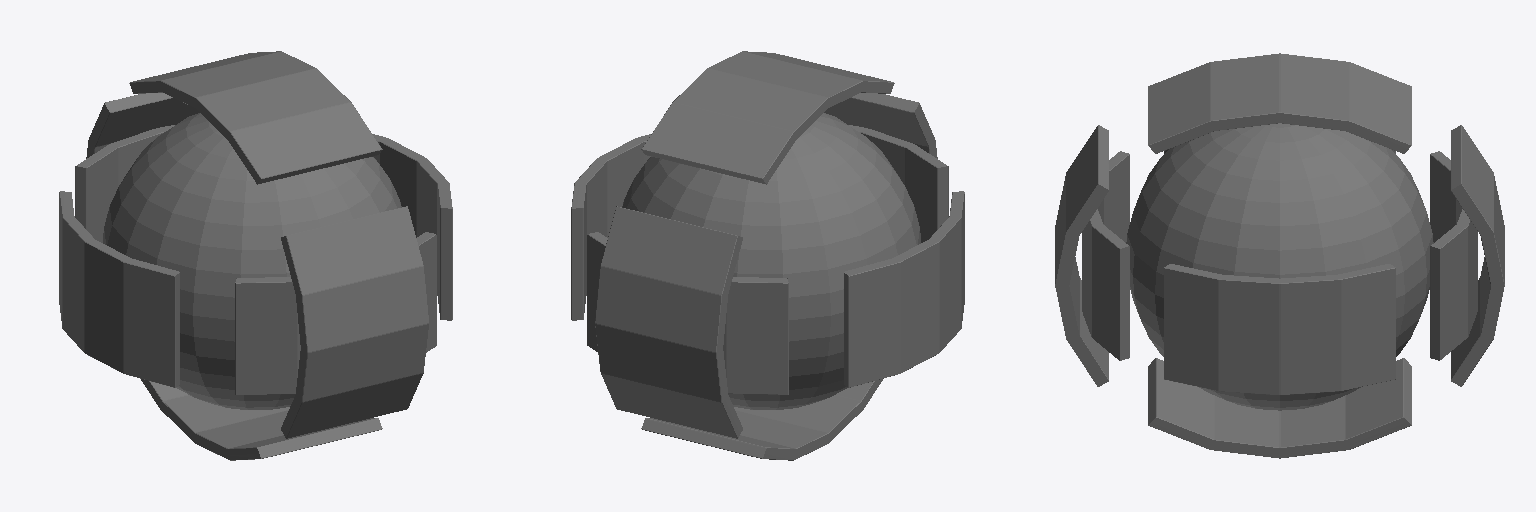
The model's file is shieldBall.obj.
The picture shows the model from 3 angles: view 1: azimuth 30°, elevation 25°; view 2: azimuth 150°, elevation 25°; view 3: azimuth 270°, elevation 25°; orthographic projection.
Size of the model in its own units: 2.46 by 2.37 by 2.79.